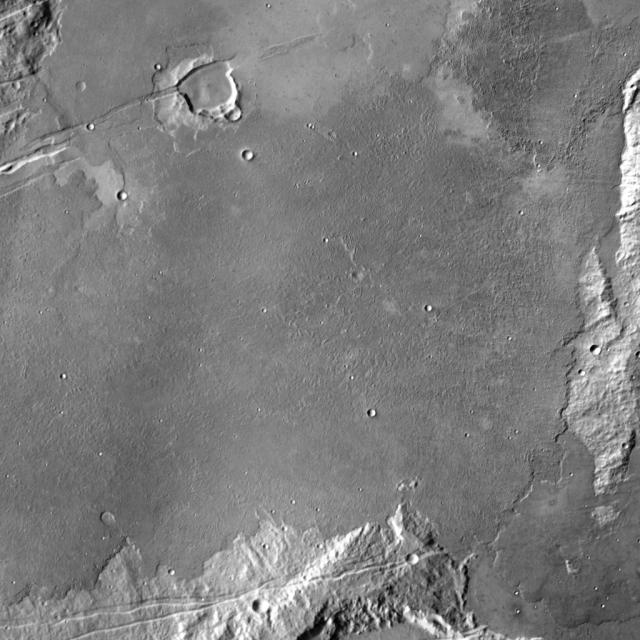crater: (188, 65, 243, 117), (259, 600, 275, 615), (233, 110, 247, 123), (108, 513, 120, 525), (248, 152, 260, 163), (413, 554, 425, 565), (125, 192, 135, 202), (598, 348, 608, 358), (12, 122, 22, 130), (82, 84, 91, 92), (20, 83, 28, 91), (375, 411, 383, 418), (167, 564, 174, 570), (86, 117, 92, 124), (426, 300, 432, 306)
